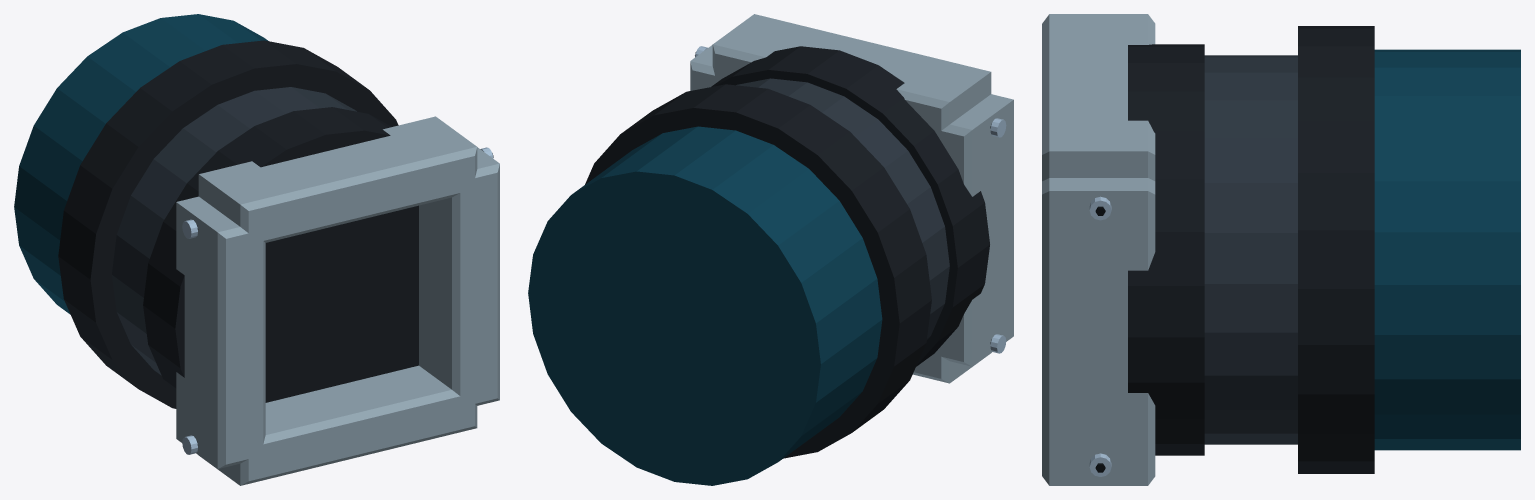
The model's file is NailgunBlue_Evolved_Contact.obj.
3 views of the same model, side by side, from view 1: azimuth 30°, elevation 25°; view 2: azimuth 150°, elevation 25°; view 3: azimuth 270°, elevation 25° (orthographic). The views are drawn at different scales.
Visible parts, largest first — view 1: MachinedSteel, FrameBlack, PetrolBlue, Graphite, Steel; view 2: PetrolBlue, FrameBlack, MachinedSteel, Graphite, Steel; view 3: FrameBlack, PetrolBlue, MachinedSteel, Graphite, Steel.
Part boxes in pixels (x1,y1,x2,y2): MachinedSteel: (176, 116, 499, 485); FrameBlack: (58, 40, 418, 408); PetrolBlue: (14, 14, 268, 314); Graphite: (112, 87, 356, 375); Steel: (182, 147, 493, 454); PetrolBlue: (528, 126, 882, 485); FrameBlack: (585, 46, 989, 458); MachinedSteel: (690, 14, 1013, 383); Graphite: (736, 78, 949, 340); Steel: (695, 46, 1006, 353); FrameBlack: (1128, 26, 1374, 473); PetrolBlue: (1374, 49, 1520, 450); MachinedSteel: (1042, 14, 1155, 485); Graphite: (1204, 55, 1297, 444); Steel: (1089, 196, 1111, 476).
Bounding box in the file's own units: 0.246 × 0.246 × 0.262.
